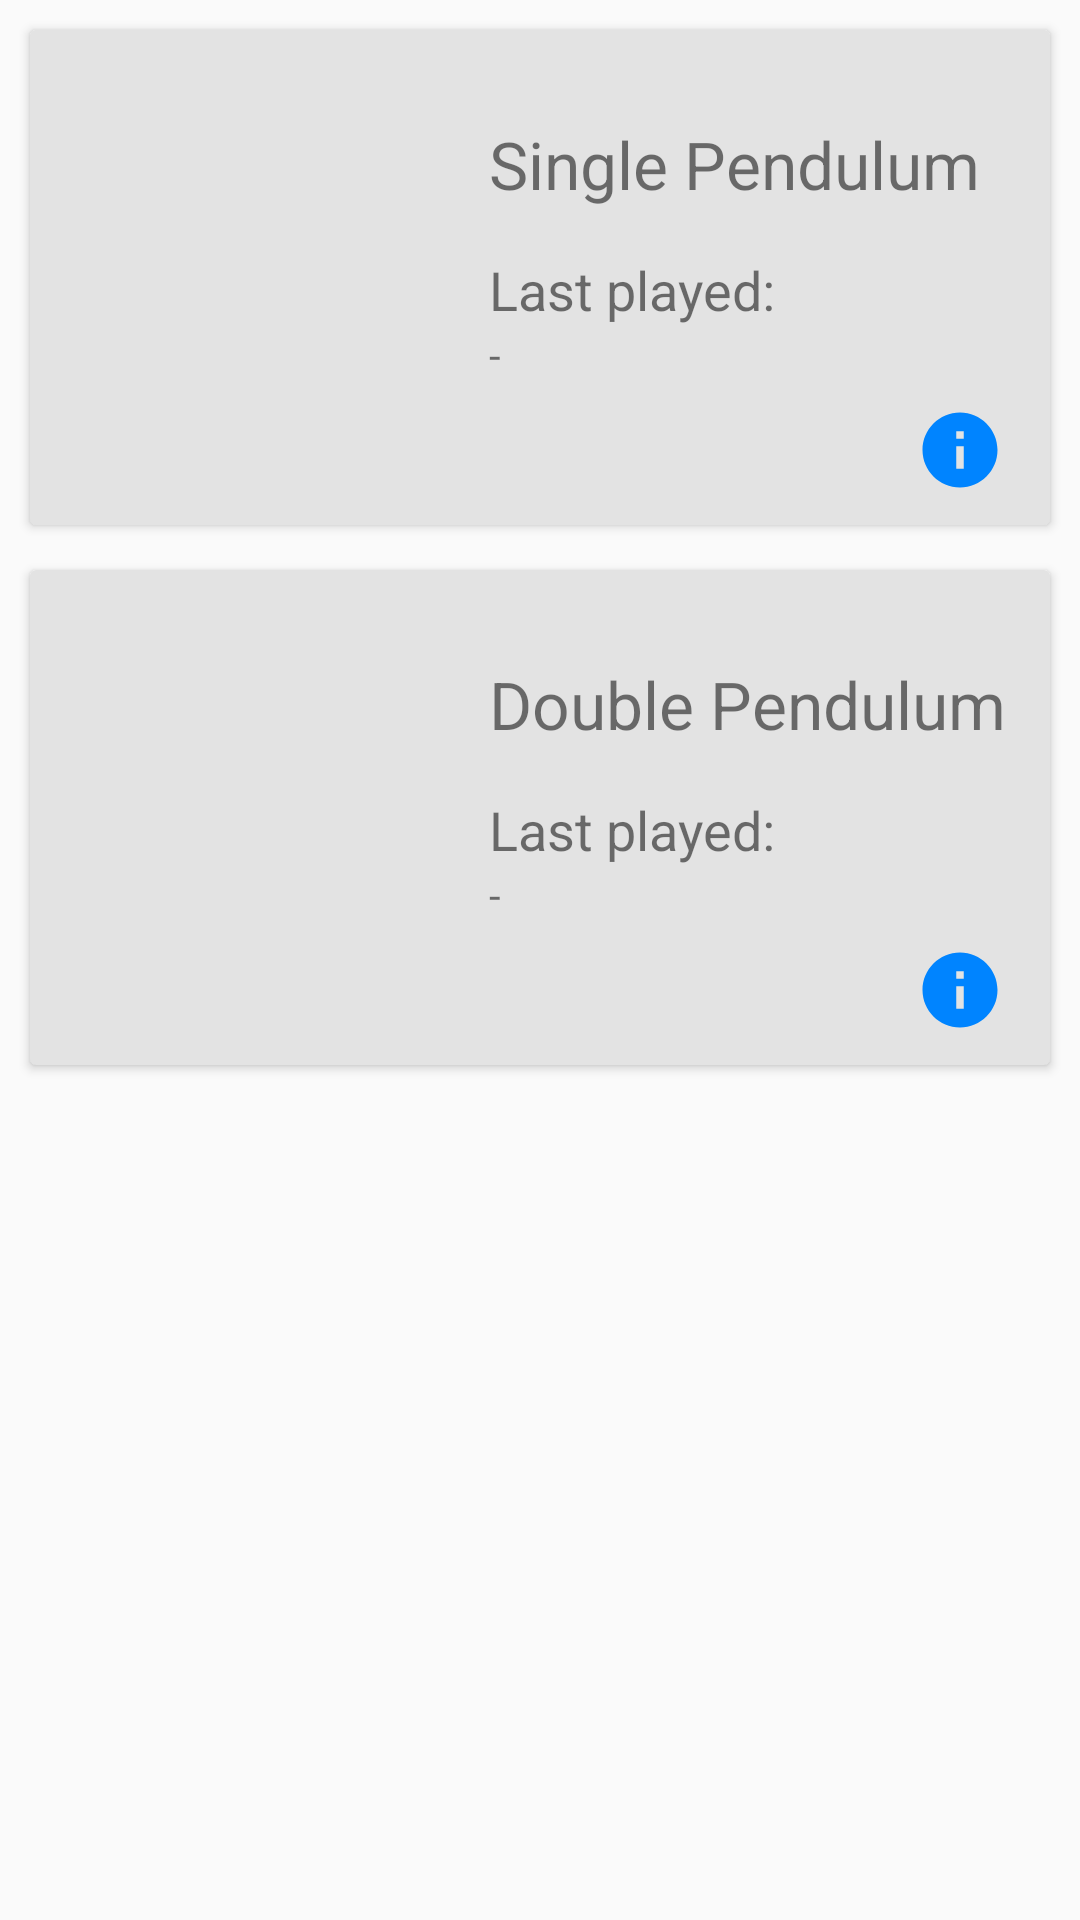

Icon click points for this 1080×1920 phone screenshot, format (x=x, y=y):
info: (x=960, y=450), (x=960, y=990)
